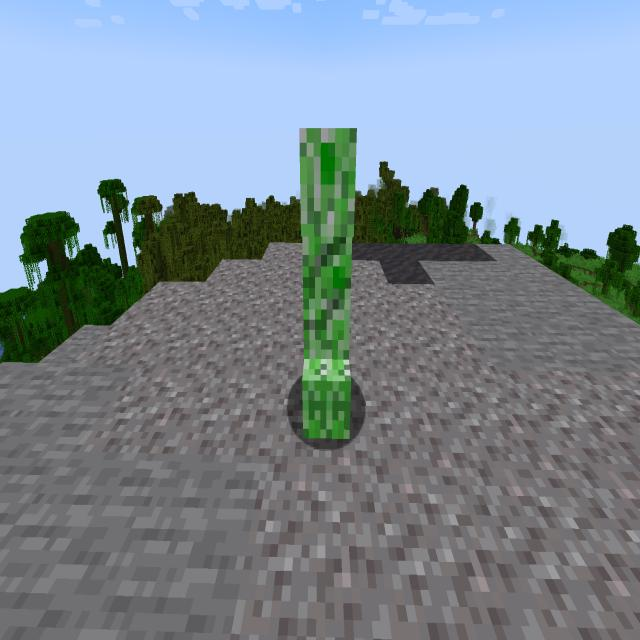Creeper: (289, 116, 371, 456)
